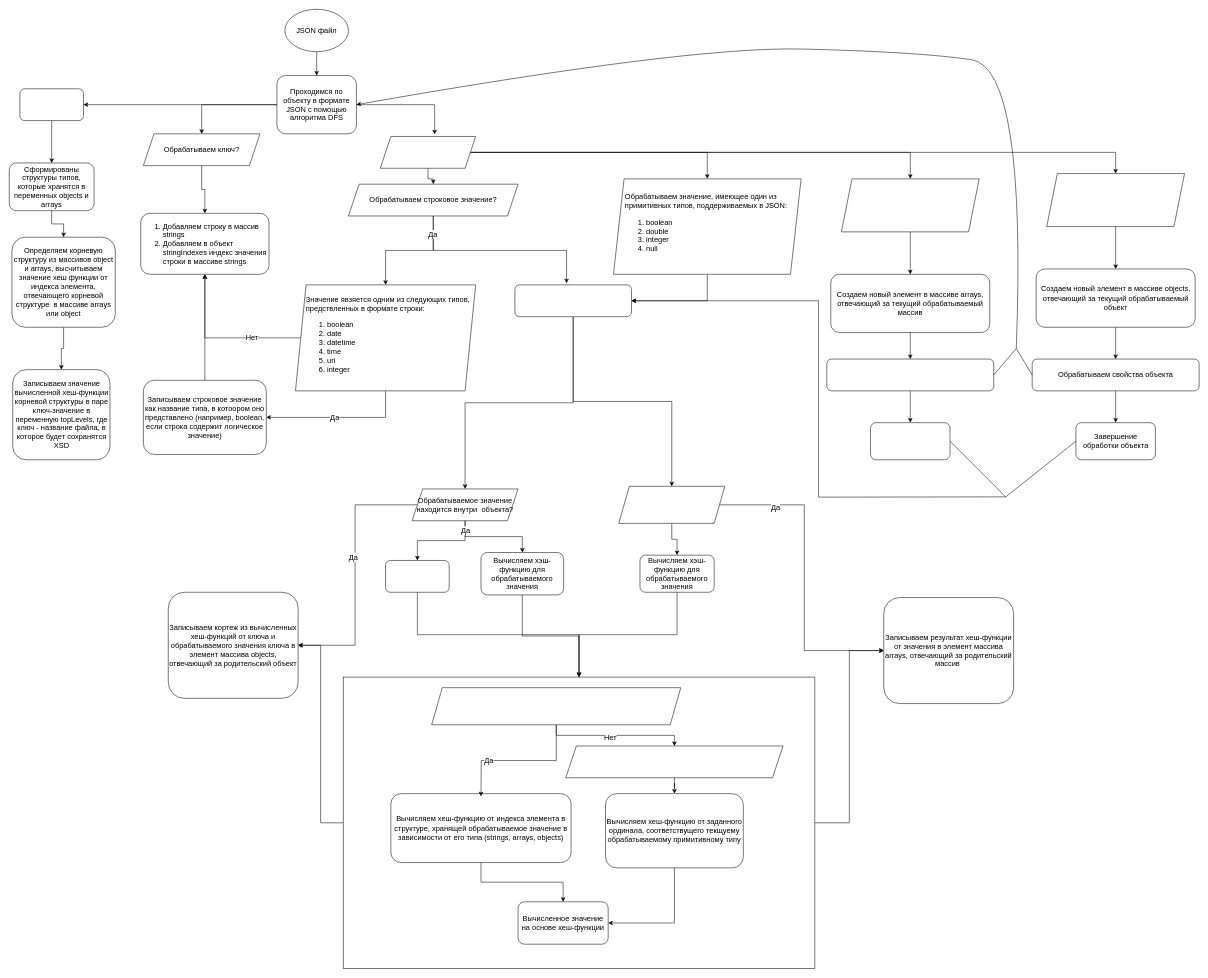
This 1208x978 diagram has some shape labels left out. Each missing label, with the box of its shape:
Вычисляем хэш-функцию для ключа: (385, 560, 449, 592)
Завершение обработки JSON файла: (19, 88, 83, 121)
Завершение обработки массива: (870, 422, 950, 460)
Записываем значение в соотвествующуюю родительскую структуру: (514, 284, 631, 317)
Обрабатываем значение?: (380, 136, 476, 168)
Обрабатываем массив?: (841, 178, 979, 232)
Обрабатываем объект?: (1046, 173, 1185, 227)
Обрабатываем элементы массива: (826, 359, 994, 391)
Обрабатываемое значение имеет примитивный тип?: (565, 745, 783, 778)
Обрабатываемое значение имеет тип строки, объекта или массива?: (431, 687, 681, 725)
Обрабатываемое значение находится внутри массива?: (618, 486, 725, 523)
